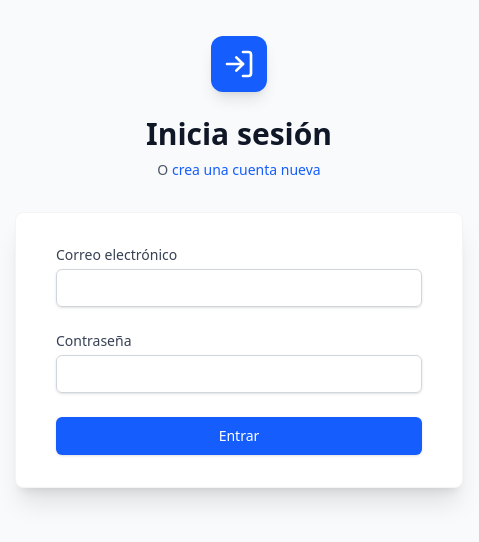
Test: LoginPage › debe mostrar errores de validación si se envía vacío
Click the button "Entrar" at (239, 436), box [56,417,422,455]
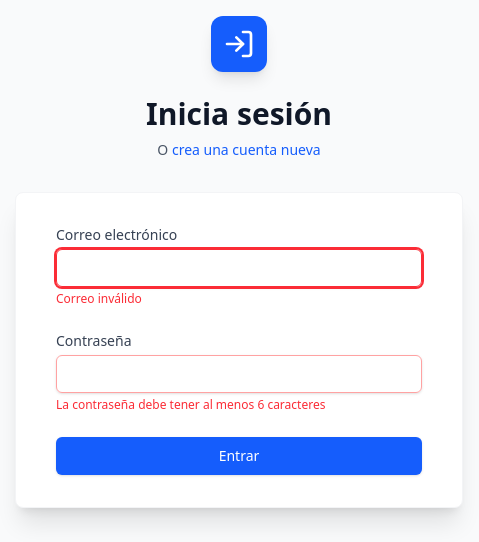
Expected: the text "Correo inválido" is shown, [56,290,142,307]
Expected: the text "La contraseña debe tener al menos 6 caracteres" is shown, [56,396,325,413]
